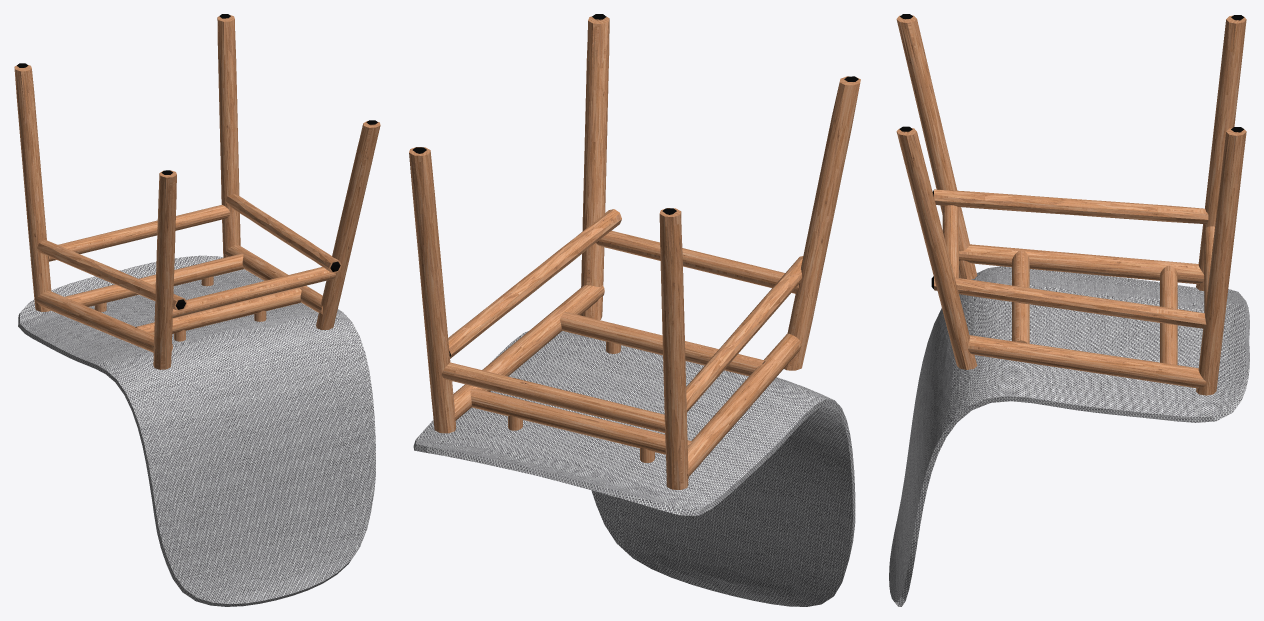
Rendered from MR_Jac_Side_Architectural.gltf.
3 renders of one model, left to right at view 1: azimuth 30°, elevation 25°; view 2: azimuth 150°, elevation 25°; view 3: azimuth 270°, elevation 25°, orthographic. The views are drawn at different scales.
Visible parts, largest first — view 1: Jac_Side_Architectural_MR; view 2: Jac_Side_Architectural_MR; view 3: Jac_Side_Architectural_MR.
Boxes of the visible parts, x1,y1,x2,y2 form: Jac_Side_Architectural_MR: [14, 14, 380, 606]; Jac_Side_Architectural_MR: [409, 14, 860, 606]; Jac_Side_Architectural_MR: [889, 14, 1249, 606].
Bounding box in the file's own units: 0.4599 × 0.8205 × 0.5278.
Materials: 3 (2 with a texture image).
